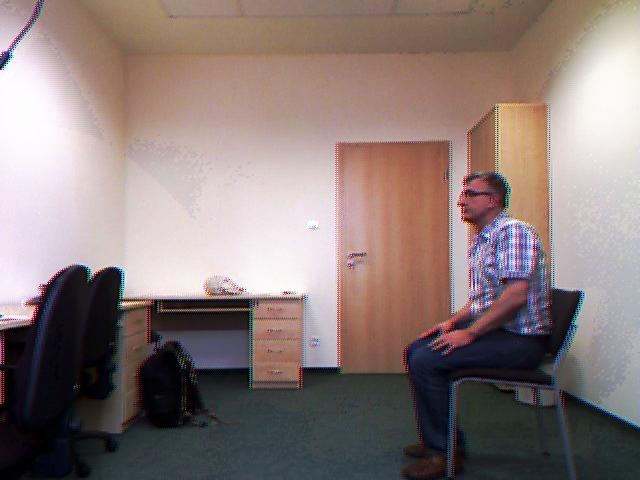sitting: (398, 150, 561, 480)
